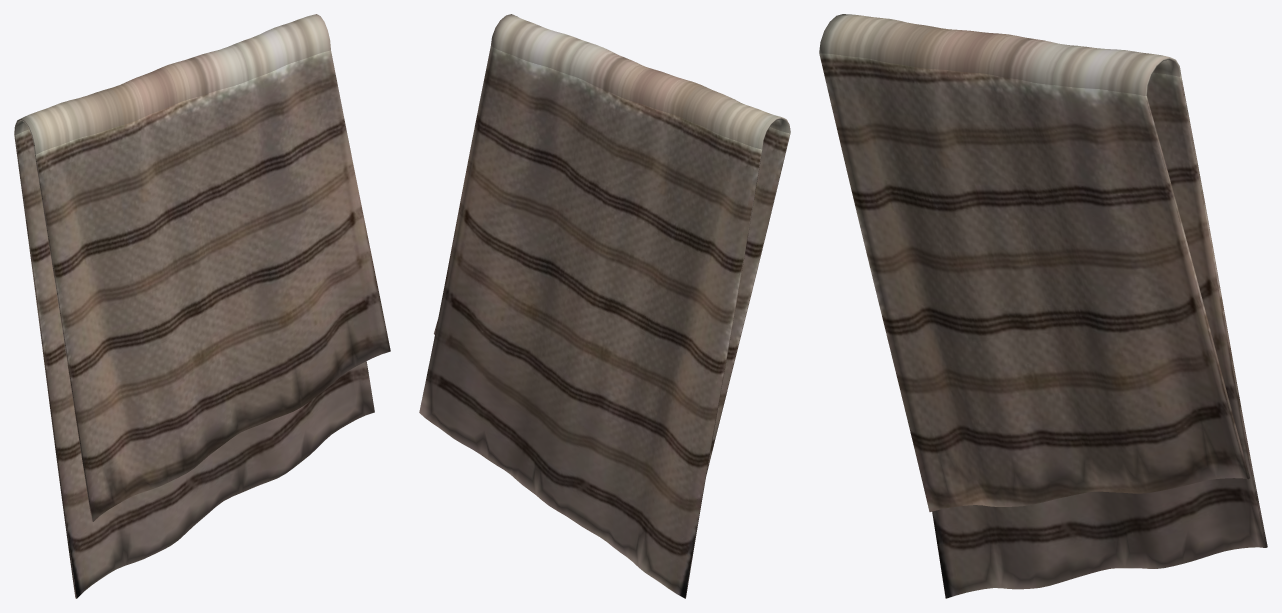
3 renders of one model, left to right at view 1: azimuth 30°, elevation 25°; view 2: azimuth 150°, elevation 25°; view 3: azimuth 330°, elevation 25°, orthographic. The views are drawn at different scales.
Parts seen in each view (by area): view 1: cloth; view 2: cloth; view 3: cloth.
Boxes of the visible parts, bbox=[...] form: cloth: bbox=[14, 14, 390, 598]; cloth: bbox=[419, 14, 790, 598]; cloth: bbox=[819, 14, 1267, 598].
Bounding box in the file's own units: 0.2799 × 0.3992 × 0.0554.
Materials: 1 (1 with a texture image).
